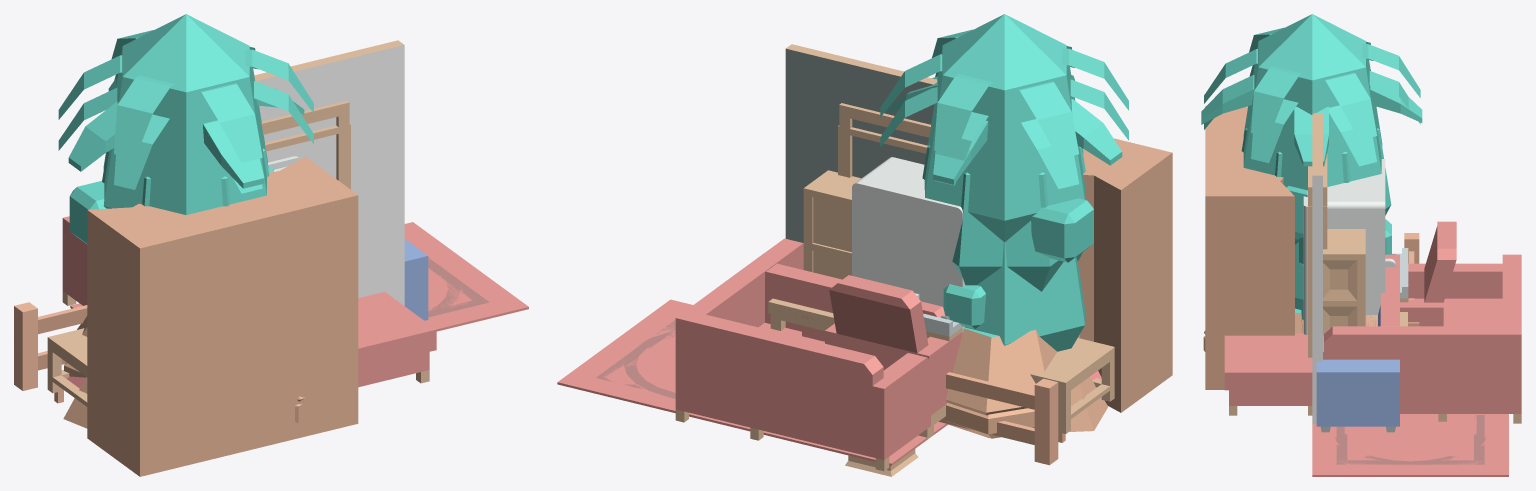
The model's file is props.glb.
3 renders of one model, left to right at view 1: azimuth 30°, elevation 25°; view 2: azimuth 150°, elevation 25°; view 3: azimuth 270°, elevation 25°, orthographic. The views are drawn at different scales.
Parts seen in each view (by area): view 1: cliff_large_rock, tree_default, wall(Clone), wallDoorway(Clone), tree_palm, Mesh wallWindow, rugRectangle(Clone), loungeSofaOttoman(Clone), tree_palmTall, tree_palmBend, fence_simple, rugRounded(Clone) (+9 smaller); view 2: loungeSofaCorner(Clone), cliff_large_rock, tree_default, wall(Clone), Mesh kitchenFridgeLarge, loungeChairRelax(Clone), tree_palm, tree_fat, rugRectangle(Clone), rock_largeB, tree_oak, bookcaseClosedWide(Clone) (+16 smaller); view 3: loungeSofaCorner(Clone), cliff_large_rock, tree_default, rugRectangle(Clone), loungeDesignSofa(Clone), tree_palm, Mesh kitchenFridgeLarge, bookcaseClosedWide(Clone), rugRounded(Clone), loungeChairRelax(Clone), loungeSofaLong(Clone), tree_palmTall (+14 smaller).
Part boxes in pixels (box(x1,y1,x2,y2)): cliff_large_rock: box(87, 156, 358, 476); tree_default: box(103, 14, 268, 214); wall(Clone): box(254, 40, 404, 305); wallDoorway(Clone): box(258, 45, 404, 303); tree_palm: box(58, 30, 313, 162); Mesh wallWindow: box(258, 46, 404, 304); rugRectangle(Clone): box(70, 222, 528, 331); loungeSofaOttoman(Clone): box(358, 292, 435, 387); tree_palmTall: box(68, 77, 304, 188); tree_palmBend: box(58, 74, 313, 193); fence_simple: box(14, 302, 87, 390); rugRounded(Clone): box(413, 244, 485, 328); loungeSofaCorner(Clone): box(675, 238, 928, 471); cliff_large_rock: box(1078, 138, 1172, 412); tree_default: box(924, 14, 1084, 241); wall(Clone): box(785, 44, 937, 242); Mesh kitchenFridgeLarge: box(852, 157, 964, 332); loungeChairRelax(Clone): box(825, 275, 962, 438); tree_palm: box(880, 29, 1128, 158); tree_fat: box(965, 242, 1084, 351); rugRectangle(Clone): box(557, 299, 948, 465); rock_largeB: box(946, 327, 1056, 437); tree_oak: box(922, 145, 1085, 291); bookcaseClosedWide(Clone): box(803, 170, 861, 279); loungeSofaCorner(Clone): box(1323, 254, 1521, 423); cliff_large_rock: box(1205, 106, 1294, 389); tree_default: box(1243, 14, 1382, 190); rugRectangle(Clone): box(1312, 415, 1508, 476); loungeDesignSofa(Clone): box(1316, 305, 1399, 432); tree_palm: box(1204, 27, 1420, 140); Mesh kitchenFridgeLarge: box(1327, 159, 1385, 314); bookcaseClosedWide(Clone): box(1323, 229, 1365, 335); rugRounded(Clone): box(1321, 415, 1497, 474); loungeChairRelax(Clone): box(1400, 221, 1456, 326); loungeSofaLong(Clone): box(1224, 281, 1399, 415); tree_palmTall: box(1201, 75, 1422, 166).
Size of the model in its own units: 2.09 by 1.93 by 1.5.
